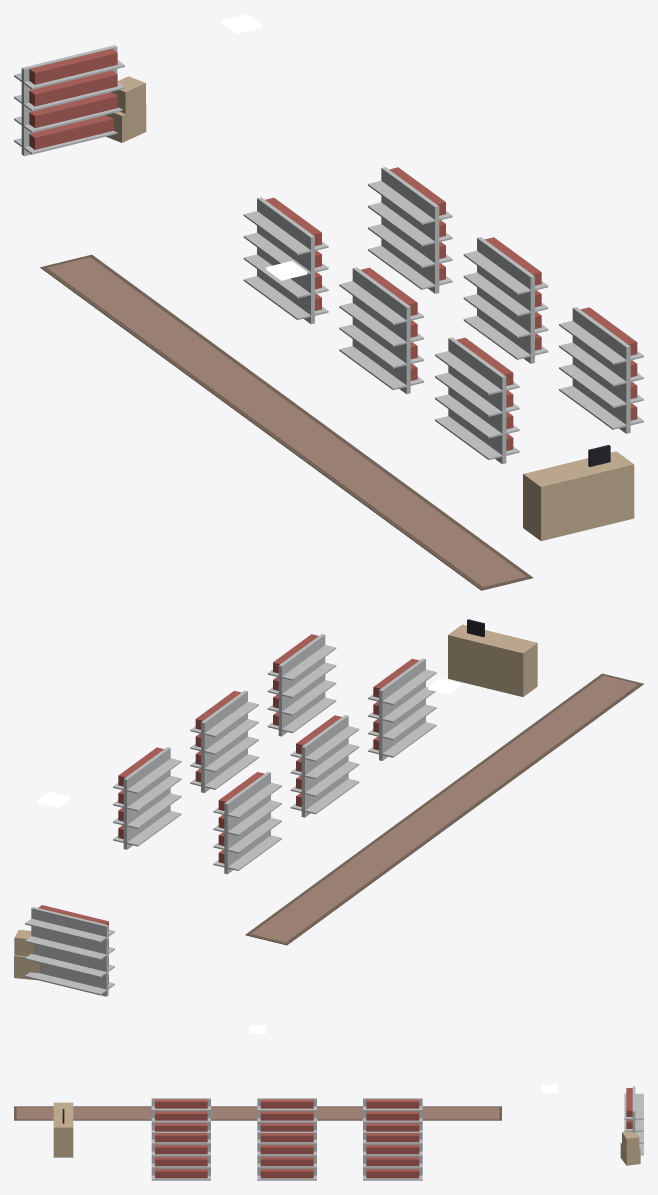
Rendered from fine-s0.glb.
3 renders of one model, top to bottom at view 1: azimuth 30°, elevation 25°; view 2: azimuth 150°, elevation 25°; view 3: azimuth 270°, elevation 25°, orthographic. The views are drawn at different scales.
Parts seen in each view (by area): view 1: soft-s0, shelving.000, shop-counter.000, shelf.002, shelf.005, shelf.001, shelf.004, shelf.003, shelf.000, cardboard-box.000; view 2: soft-s0, shelving.000, shop-counter.000, shelf.001, shelf.005, shelf.000, shelf.003, shelf.004, shelf.002, cardboard-box.000; view 3: soft-s0, shelf.003, shelf.004, shelf.005, shelf.000, shelf.001, shelf.002, shop-counter.000, shelving.000, cardboard-box.000.
Part boxes in pixels (x1,y1,x2,y2): soft-s0: [40, 254, 532, 590]; shelving.000: [14, 45, 124, 156]; shop-counter.000: [523, 445, 634, 540]; shelf.002: [435, 337, 519, 464]; shelf.005: [559, 307, 643, 433]; shelf.001: [339, 267, 423, 394]; shelf.004: [463, 237, 548, 363]; shelf.003: [368, 167, 452, 293]; shelf.000: [243, 197, 328, 323]; cardboard-box.000: [105, 76, 146, 142]; soft-s0: [245, 673, 643, 945]; shelving.000: [25, 905, 114, 996]; shop-counter.000: [448, 619, 537, 696]; shelf.001: [290, 715, 359, 817]; shelf.005: [267, 634, 336, 736]; shelf.000: [213, 771, 281, 874]; shelf.003: [113, 747, 181, 849]; shelf.004: [190, 690, 258, 792]; shelf.002: [368, 658, 436, 760]; cardboard-box.000: [14, 929, 39, 980]; soft-s0: [14, 1106, 501, 1120]; shelf.003: [363, 1131, 422, 1180]; shelf.004: [257, 1131, 316, 1180]; shelf.005: [151, 1131, 210, 1180]; shelf.000: [363, 1098, 422, 1131]; shelf.001: [257, 1098, 316, 1131]; shelf.002: [151, 1098, 210, 1131]; shop-counter.000: [53, 1102, 73, 1157]; shelving.000: [624, 1086, 643, 1155]; cardboard-box.000: [620, 1131, 640, 1165].
Size of the model in its own units: 5.55 by 2.83 by 19.06.
